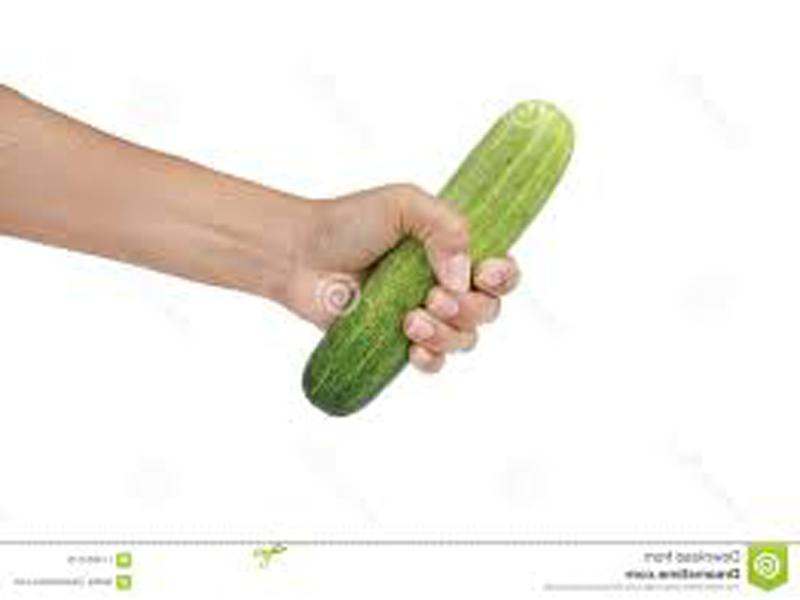Cucumber: (295, 103, 573, 417)
